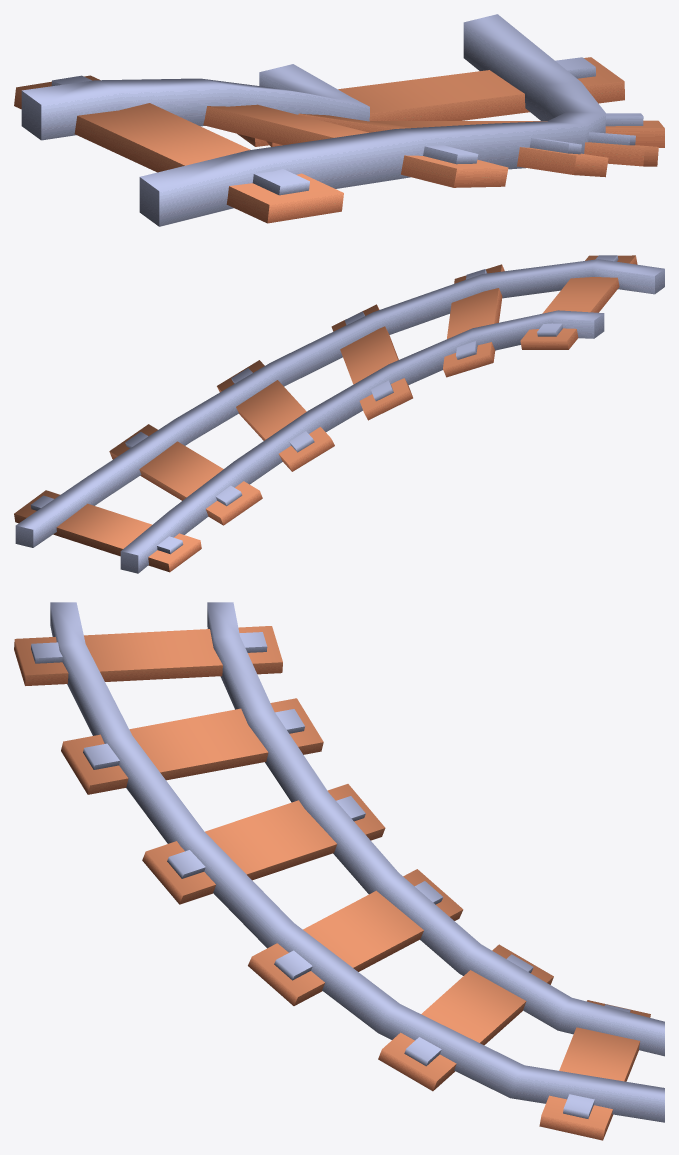
The model's file is railroad-corner-small-ramp.glb.
3 renders of one model, top to bottom at view 1: azimuth 30°, elevation 25°; view 2: azimuth 150°, elevation 25°; view 3: azimuth 270°, elevation 25°, orthographic. The views are drawn at different scales.
Parts seen in each view (by area): view 1: railroad-corner-small-ramp; view 2: railroad-corner-small-ramp; view 3: railroad-corner-small-ramp.
Part boxes in pixels (bbox=[...]): railroad-corner-small-ramp: bbox=[14, 14, 664, 226]; railroad-corner-small-ramp: bbox=[14, 255, 664, 573]; railroad-corner-small-ramp: bbox=[14, 602, 664, 1140].
Size of the model in its own units: 2.49 by 1.11 by 2.49.
1 material, 1 textured.
